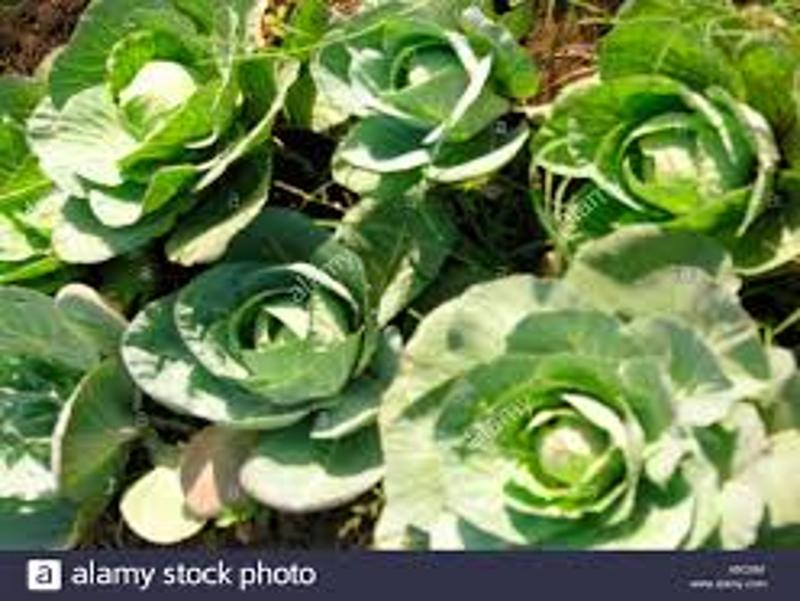cabbage: (400, 283, 775, 545), (140, 241, 381, 513), (547, 21, 795, 277), (24, 9, 277, 236), (321, 5, 526, 204)
